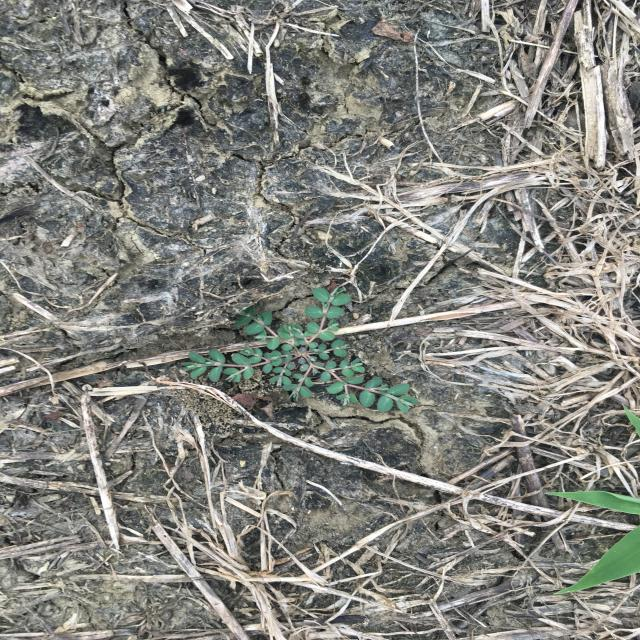SpottedSpurge: (177, 284, 421, 416)
